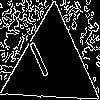I: (26, 40, 56, 88)
